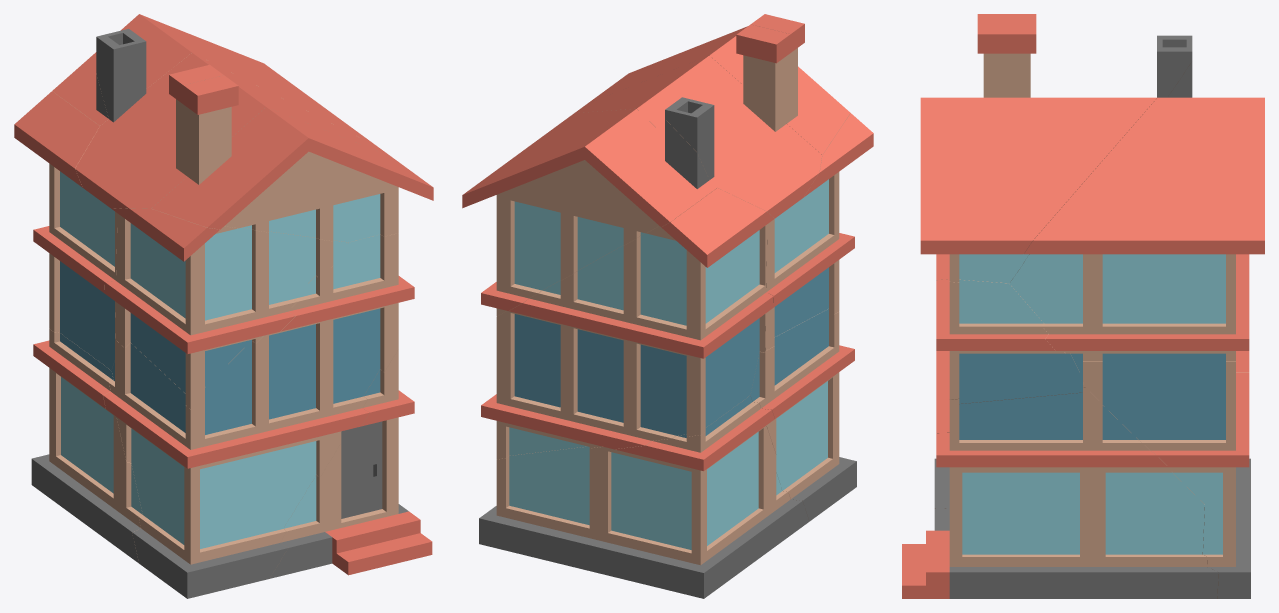
File: House 1.6 Fractured.fbx
3 views of the same model, side by side, from view 1: azimuth 30°, elevation 25°; view 2: azimuth 150°, elevation 25°; view 3: azimuth 270°, elevation 25° (orthographic). The views are drawn at different scales.
Visible parts, largest first — view 1: House_Type1_6_Breaking_cell.001, House_Type1_6_Breaking_cell.005, House_Type1_6_Breaking_cell, House_Type1_6_Breaking_cell.003, House_Type1_6_Breaking_cell.002, House_Type1_6_Breaking_cell.004, House_Type1_6_Breaking_cell.006, House_Type1_6_Breaking_cell.007; view 2: House_Type1_6_Breaking_cell.004, House_Type1_6_Breaking_cell.006, House_Type1_6_Breaking_cell.007, House_Type1_6_Breaking_cell.003, House_Type1_6_Breaking_cell.001, House_Type1_6_Breaking_cell.005, House_Type1_6_Breaking_cell; view 3: House_Type1_6_Breaking_cell.002, House_Type1_6_Breaking_cell.007, House_Type1_6_Breaking_cell.004, House_Type1_6_Breaking_cell, House_Type1_6_Breaking_cell.003, House_Type1_6_Breaking_cell.001, House_Type1_6_Breaking_cell.006.
Part boxes in pixels (x1=…): House_Type1_6_Breaking_cell.001: x1=103, y1=233, x2=414, y2=598; House_Type1_6_Breaking_cell.005: x1=104, y1=208, x2=348, y2=409; House_Type1_6_Breaking_cell: x1=151, y1=75, x2=433, y2=242; House_Type1_6_Breaking_cell.003: x1=75, y1=28, x2=389, y2=208; House_Type1_6_Breaking_cell.002: x1=269, y1=349, x2=432, y2=578; House_Type1_6_Breaking_cell.004: x1=14, y1=91, x2=117, y2=370; House_Type1_6_Breaking_cell.006: x1=31, y1=329, x2=142, y2=563; House_Type1_6_Breaking_cell.007: x1=52, y1=14, x2=376, y2=145; House_Type1_6_Breaking_cell.004: x1=481, y1=188, x2=774, y2=459; House_Type1_6_Breaking_cell.006: x1=479, y1=395, x2=809, y2=598; House_Type1_6_Breaking_cell.007: x1=462, y1=108, x2=716, y2=315; House_Type1_6_Breaking_cell.003: x1=574, y1=24, x2=822, y2=218; House_Type1_6_Breaking_cell.001: x1=750, y1=308, x2=856, y2=521; House_Type1_6_Breaking_cell.005: x1=765, y1=113, x2=873, y2=350; House_Type1_6_Breaking_cell: x1=587, y1=14, x2=850, y2=154; House_Type1_6_Breaking_cell.002: x1=902, y1=387, x2=1218, y2=598; House_Type1_6_Breaking_cell.007: x1=1009, y1=62, x2=1264, y2=360; House_Type1_6_Breaking_cell.004: x1=1071, y1=254, x2=1249, y2=508; House_Type1_6_Breaking_cell: x1=920, y1=14, x2=1006, y2=282; House_Type1_6_Breaking_cell.003: x1=1007, y1=14, x2=1192, y2=283; House_Type1_6_Breaking_cell.001: x1=934, y1=279, x2=1085, y2=508; House_Type1_6_Breaking_cell.006: x1=1202, y1=351, x2=1250, y2=598.
Size of the model in its own units: 397 by 729 by 492.
